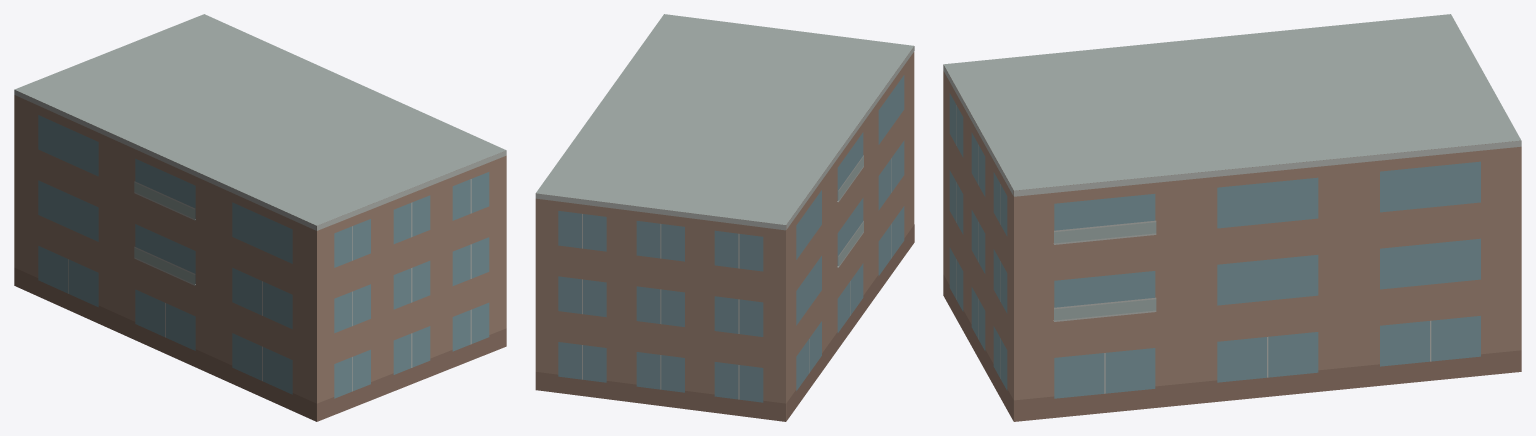
File: survey-upis-32806581.glb
3 views of the same model, side by side, from view 1: azimuth 30°, elevation 25°; view 2: azimuth 150°, elevation 25°; view 3: azimuth 270°, elevation 25° (orthographic). The views are drawn at different scales.
Parts seen in each view (by area): view 1: survey-upis-32806581.tmp; view 2: survey-upis-32806581.tmp; view 3: survey-upis-32806581.tmp.
Part boxes in pixels (box(x1,y1,x2,y2)): survey-upis-32806581.tmp: box(14, 14, 506, 421); survey-upis-32806581.tmp: box(535, 14, 914, 421); survey-upis-32806581.tmp: box(943, 14, 1521, 421).
Size of the model in its own units: 15 by 9.15 by 20.74.
